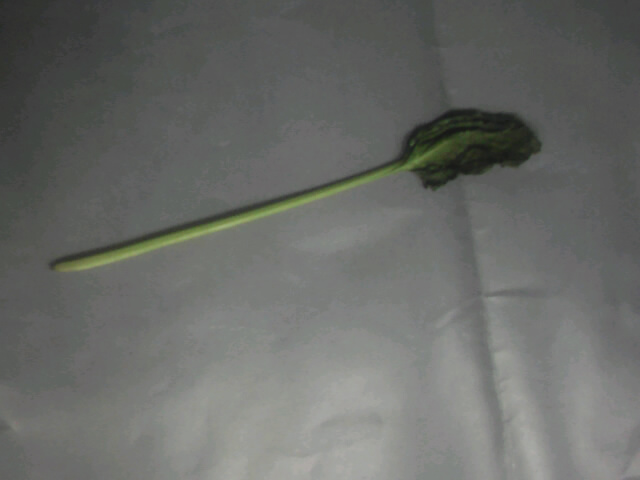yellow: (247, 109, 553, 194)
